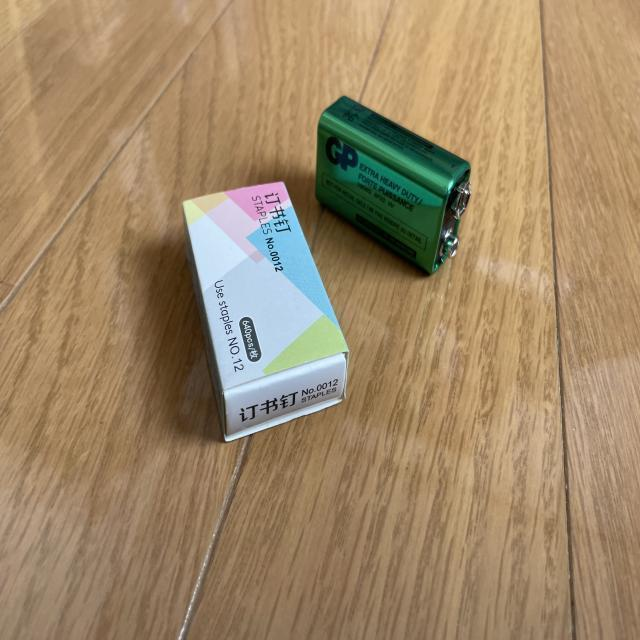9V: (310, 86, 478, 284)
